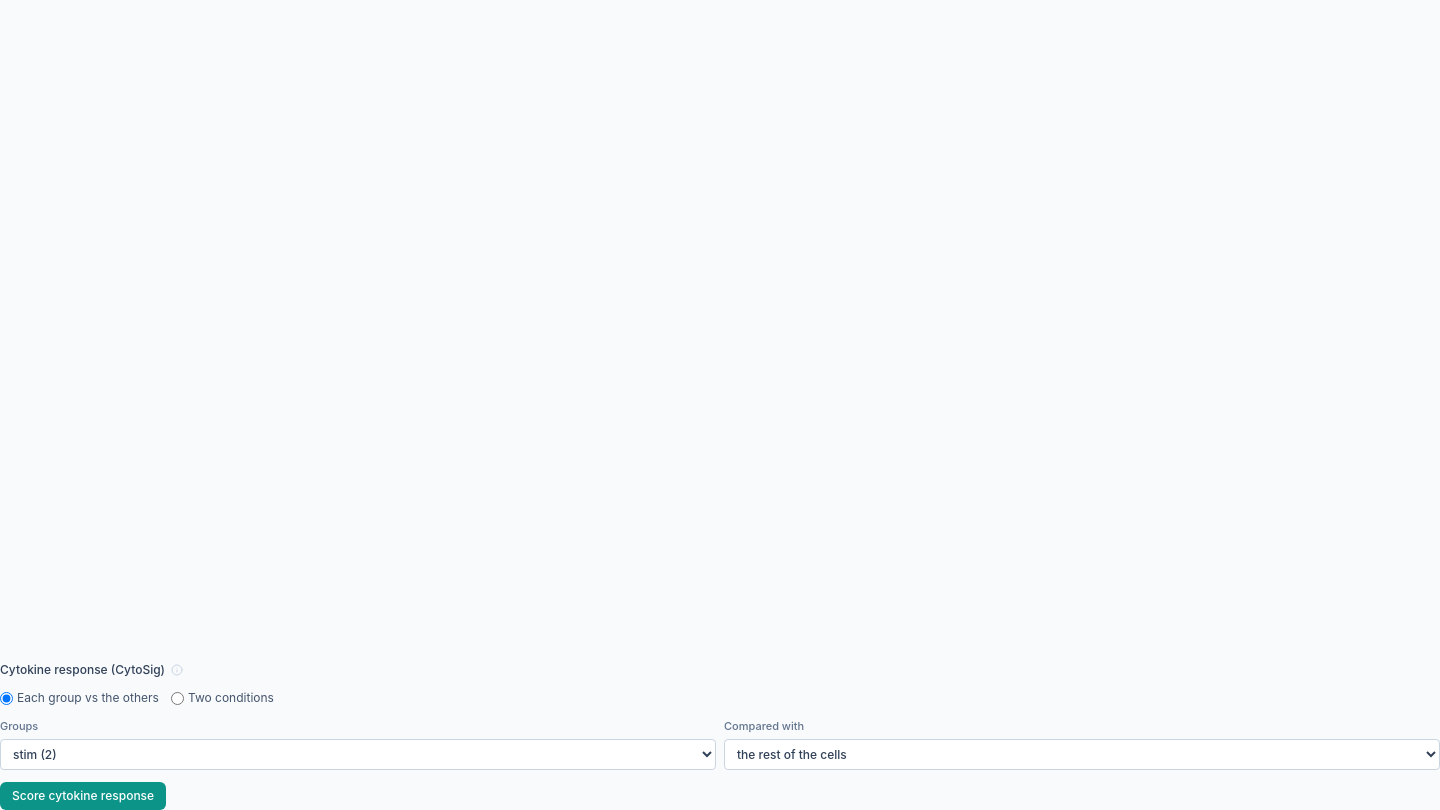
Test case: CytokineResponse › needs a group column before scoring groups, and shows a server refusal
The image size is (1440, 810).
(page scrolled)
Click the button "Score cytokine response" at x=83, y=796, box [0,782,166,809]
(page scrolled)
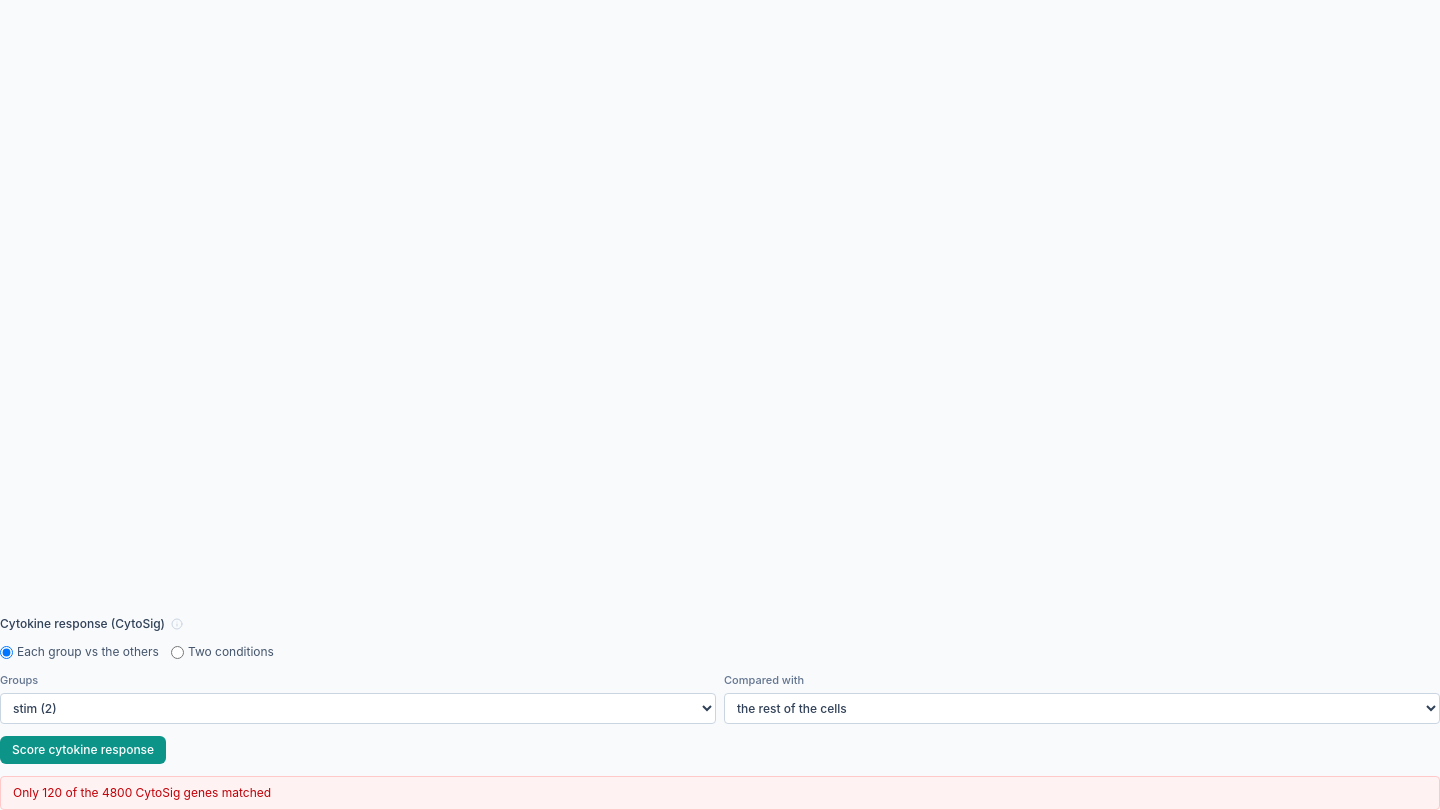
Result: the message shows "Only 120" at [13,784,271,800]
